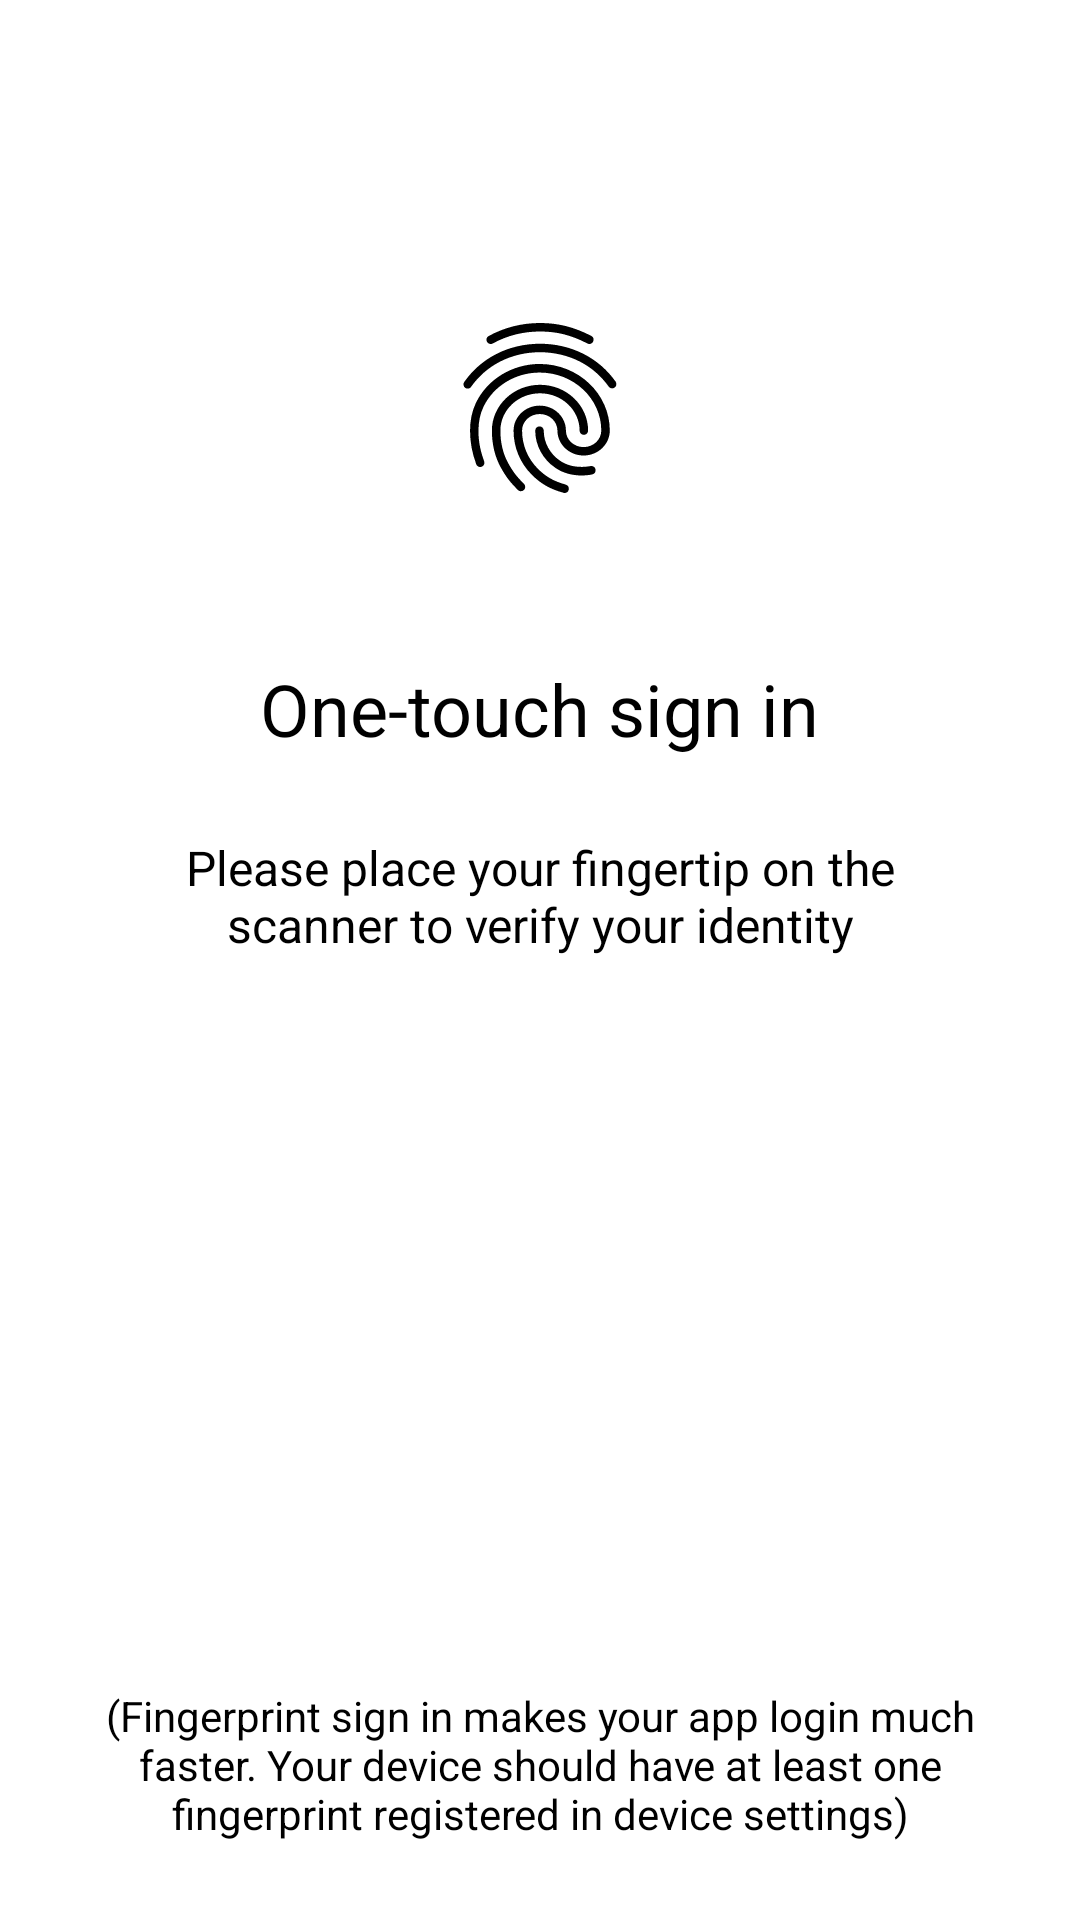

Named icons in this screenshot (1080x1920) and their bounding boxes, (x1, y1, x2, y2):
fingerprint: (463, 323, 617, 493)
